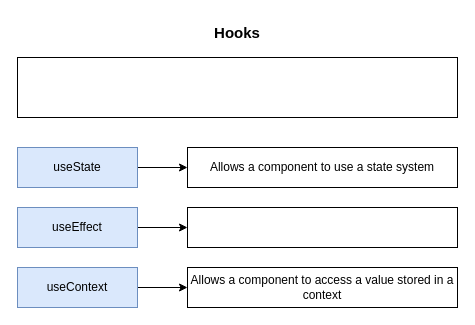
Image size: 475x325. Some labels were removed from this diagram. The shapes that lost their labels are listed below. From the top down, each one's box as (x1, y1, x2, y2) in pixels, then its label:
(16, 56, 458, 118): Functions that add additional features to a component
(186, 206, 458, 248): Allows a component to run a code at a specific point of time
